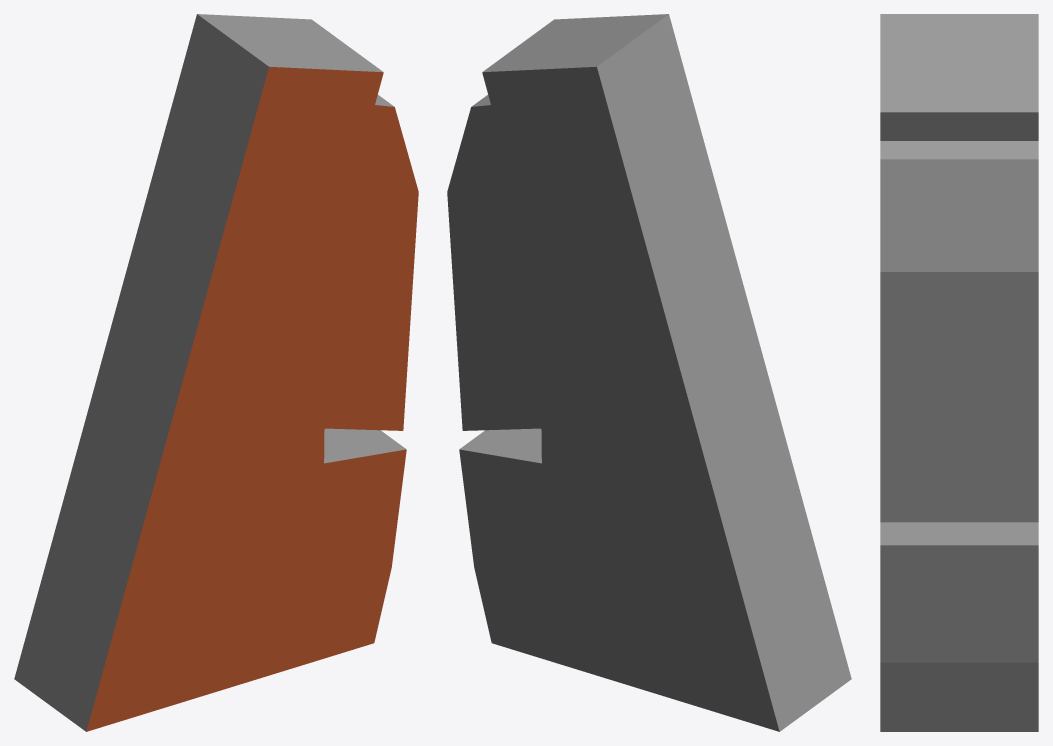
Rendered from construction_2600_assumed_A_Casa_h6m.obj.
3 views of the same model, side by side, from view 1: azimuth 30°, elevation 25°; view 2: azimuth 150°, elevation 25°; view 3: azimuth 270°, elevation 25° (orthographic). The views are drawn at different scales.
Visible parts, largest first — view 1: construction_2600_assumed_A_Casa; view 2: construction_2600_assumed_A_Casa; view 3: construction_2600_assumed_A_Casa.
Part boxes in pixels (x1,y1,x2,y2): construction_2600_assumed_A_Casa: (14, 14, 418, 731); construction_2600_assumed_A_Casa: (447, 14, 851, 731); construction_2600_assumed_A_Casa: (880, 14, 1038, 731).
Bounding box in the file's own units: 15.97 × 28.48 × 6.
